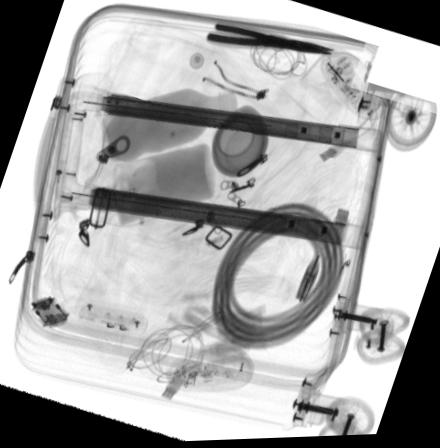Pliers: (206, 24, 332, 58)
